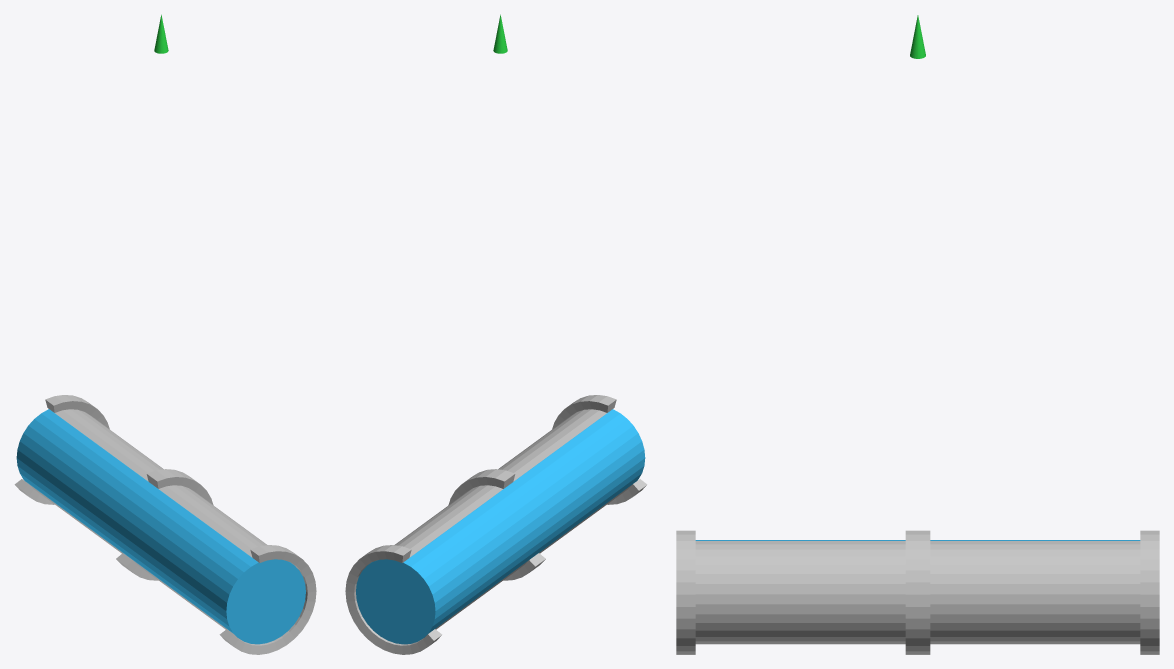
Rendered from disinfeksasi.glb.
3 views of the same model, side by side, from view 1: azimuth 30°, elevation 25°; view 2: azimuth 150°, elevation 25°; view 3: azimuth 270°, elevation 25° (orthographic). The views are drawn at different scales.
Parts seen in each view (by area): view 1: Cylinder.001, Cylinder; view 2: Cylinder.001, Cylinder; view 3: Cylinder.
Part boxes in pixels (left/top/right/bottom): Cylinder.001: left=16, top=409, right=305, bottom=644; Cylinder: left=14, top=395, right=316, bottom=654; Cylinder.001: left=356, top=409, right=645, bottom=644; Cylinder: left=345, top=395, right=647, bottom=654; Cylinder: left=676, top=530, right=1159, bottom=654.
Bounding box in the file's own units: 2.2 × 13.32 × 9.19.
